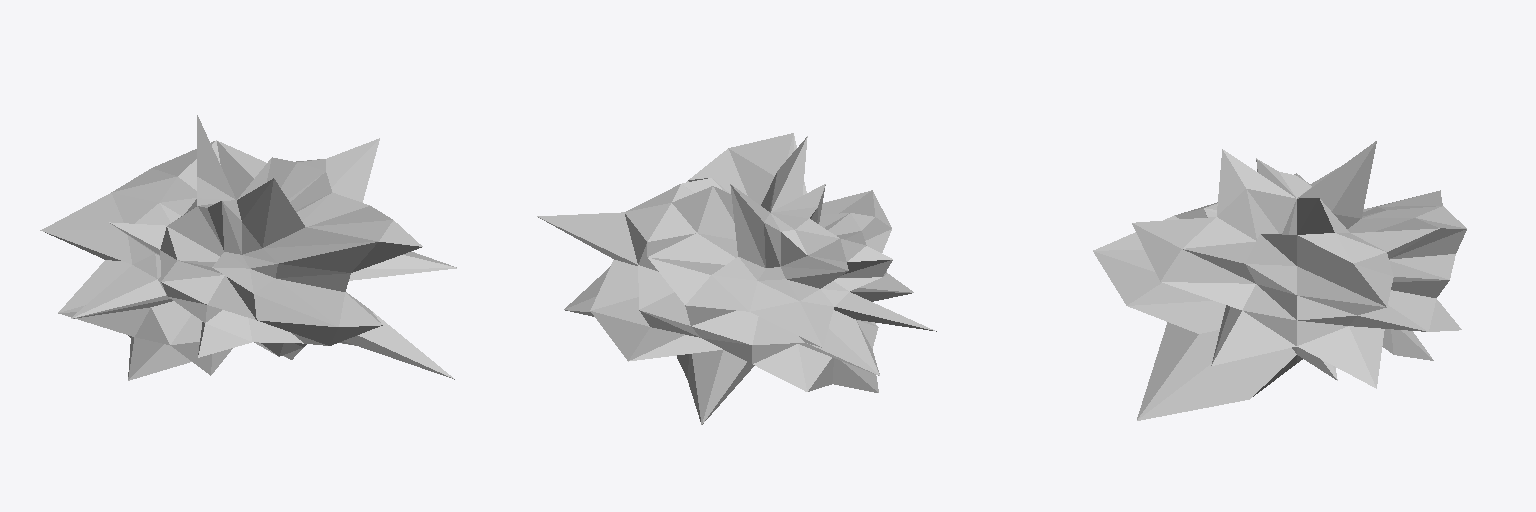
File: rock6.Obj
3 renders of one model, left to right at view 1: azimuth 30°, elevation 25°; view 2: azimuth 150°, elevation 25°; view 3: azimuth 270°, elevation 25°, orthographic.
Visible parts, largest first — view 1: default; view 2: default; view 3: default.
Boxes of the visible parts, <box> form: default: <box>40,115,456,380</box>; default: <box>537,133,936,424</box>; default: <box>1093,141,1466,420</box>.
Bounding box in the file's own units: 1.42 × 0.8424 × 1.3.